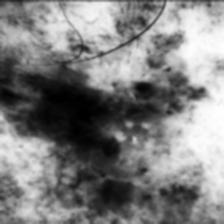Potentially Malignant Skin Tumors: (24, 65, 178, 147)
